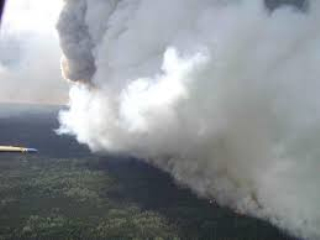smoke: (48, 5, 313, 210)
